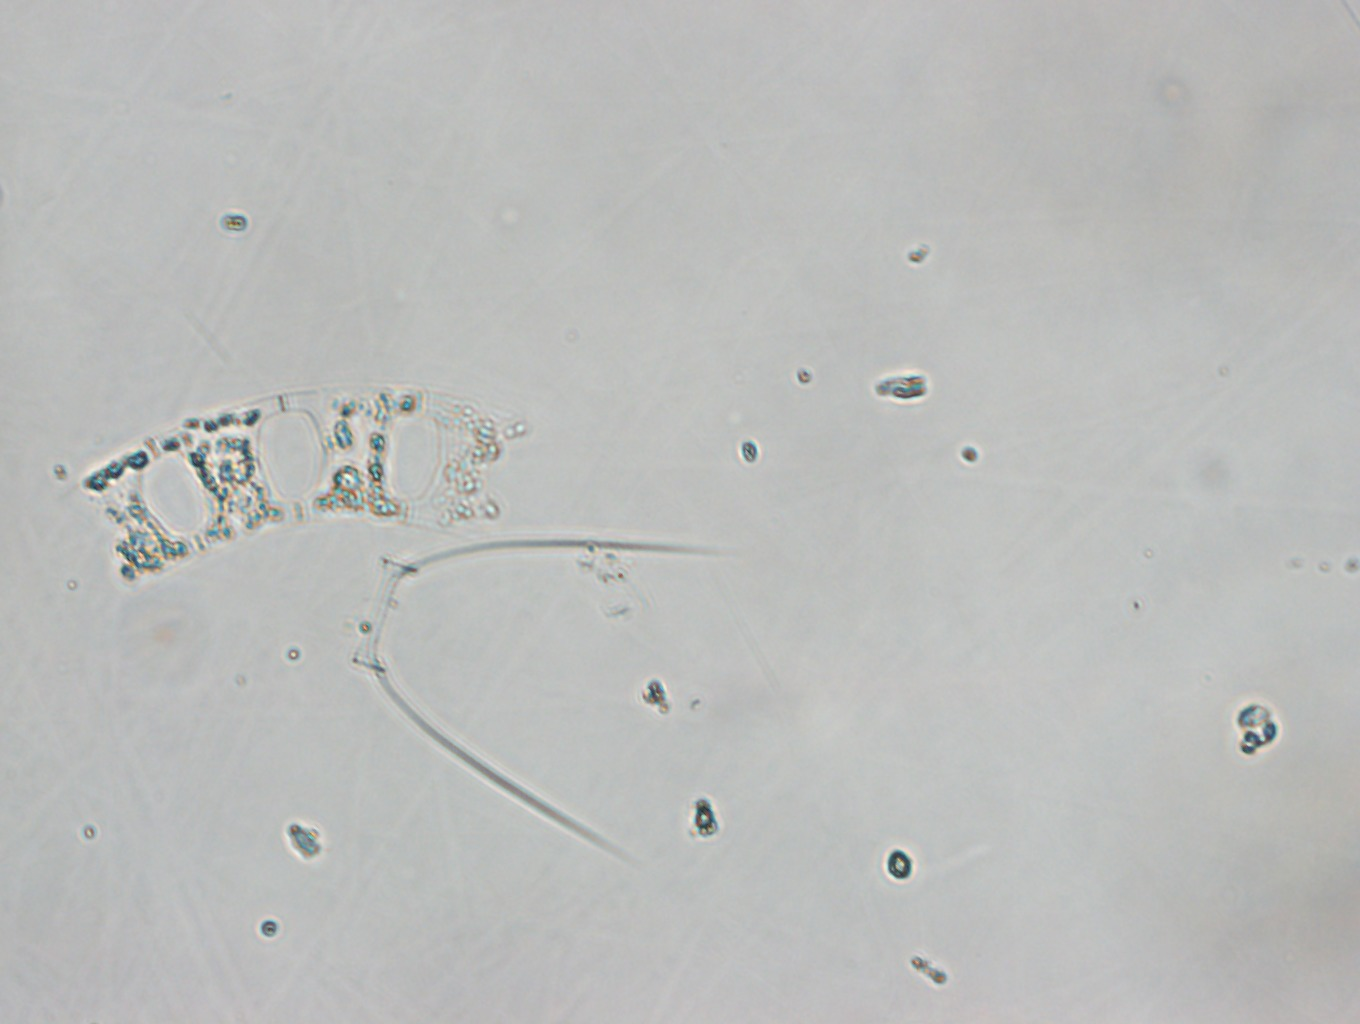eucampia: (82, 384, 531, 591)
